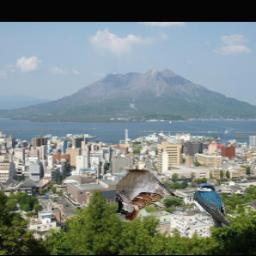Sparrow: (116, 169, 185, 222)
Swallow: (194, 183, 232, 229)
